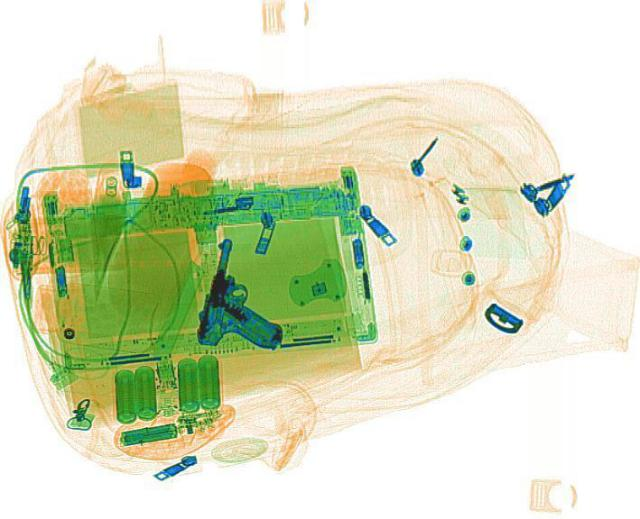Gun: (188, 236, 308, 355)
